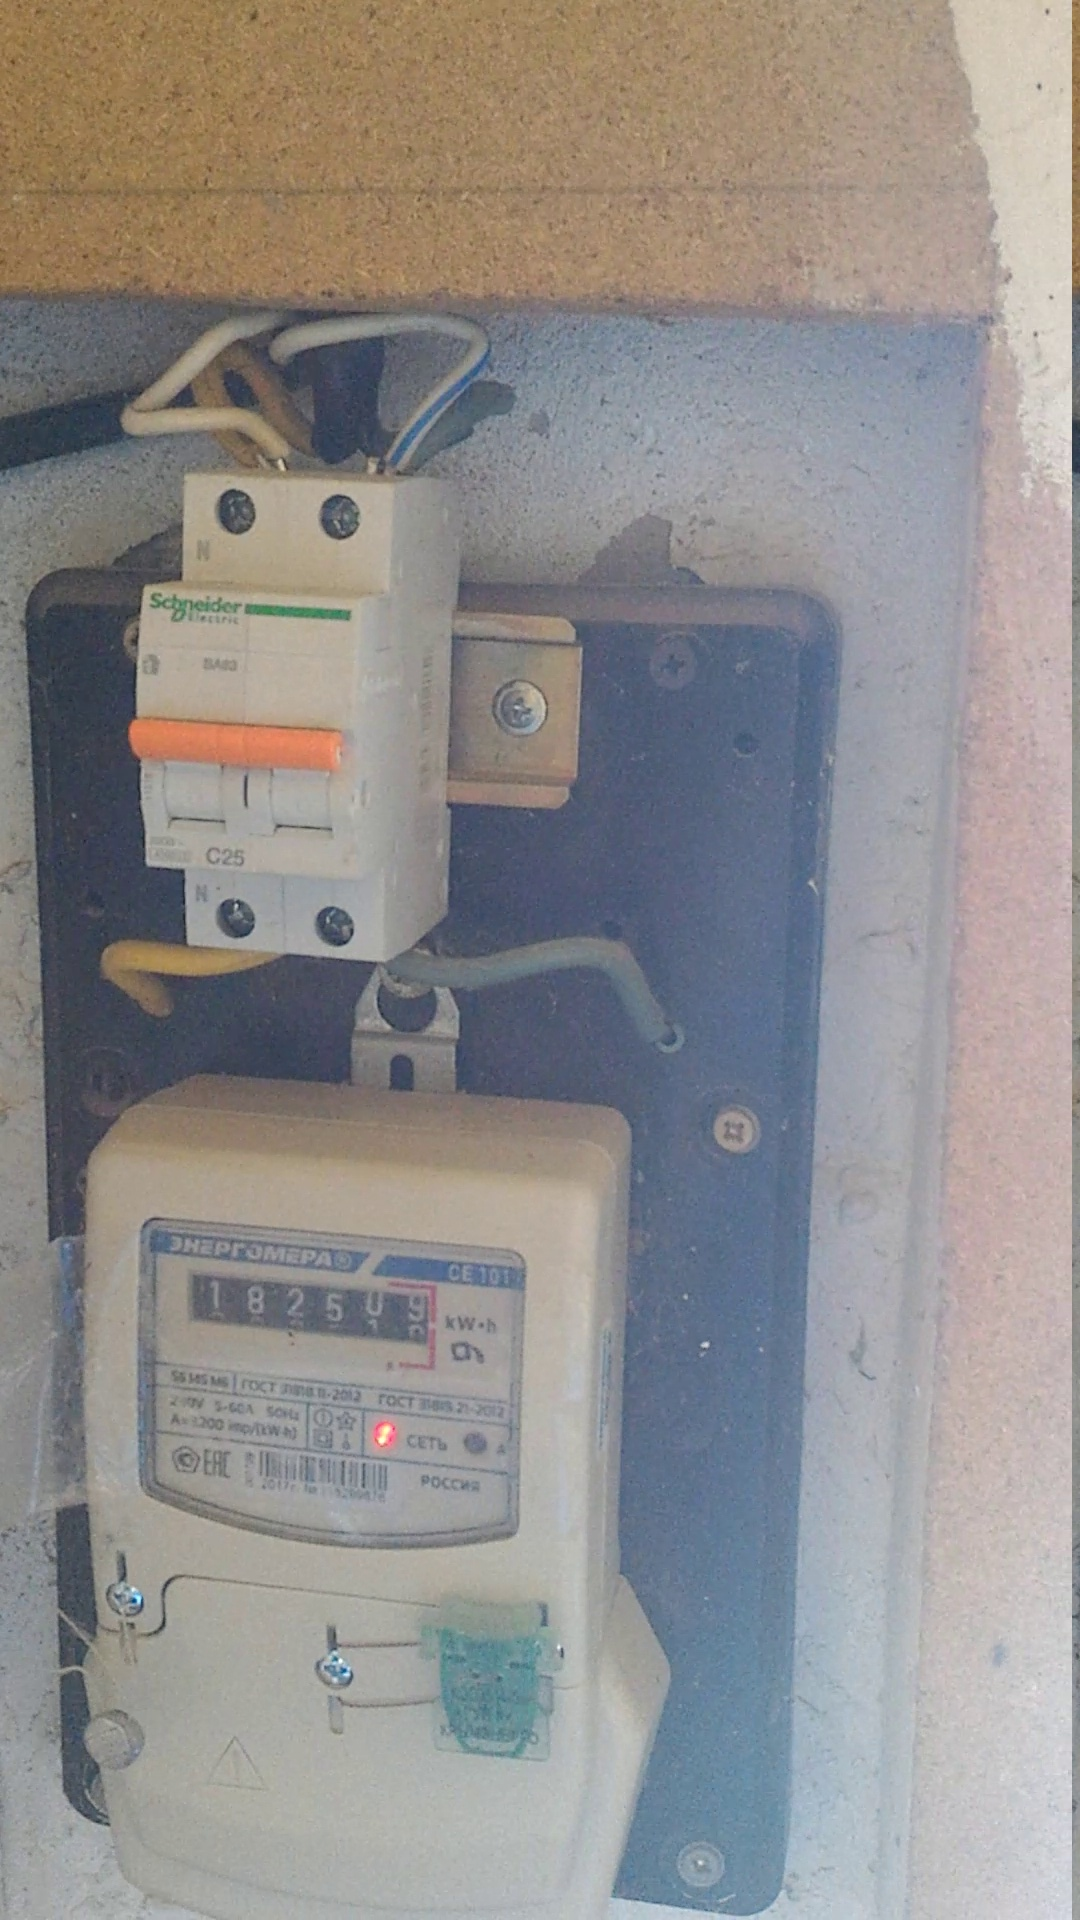counter: (80, 1135, 626, 1917)
counter_screen: (189, 1273, 433, 1349)
